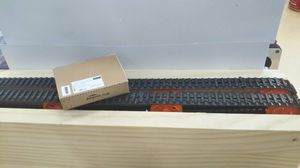box2: (50, 53, 130, 111)
